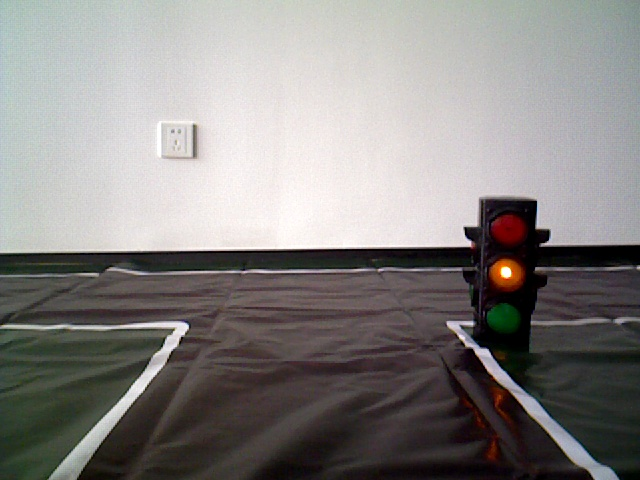yellow: (479, 196, 536, 341)
